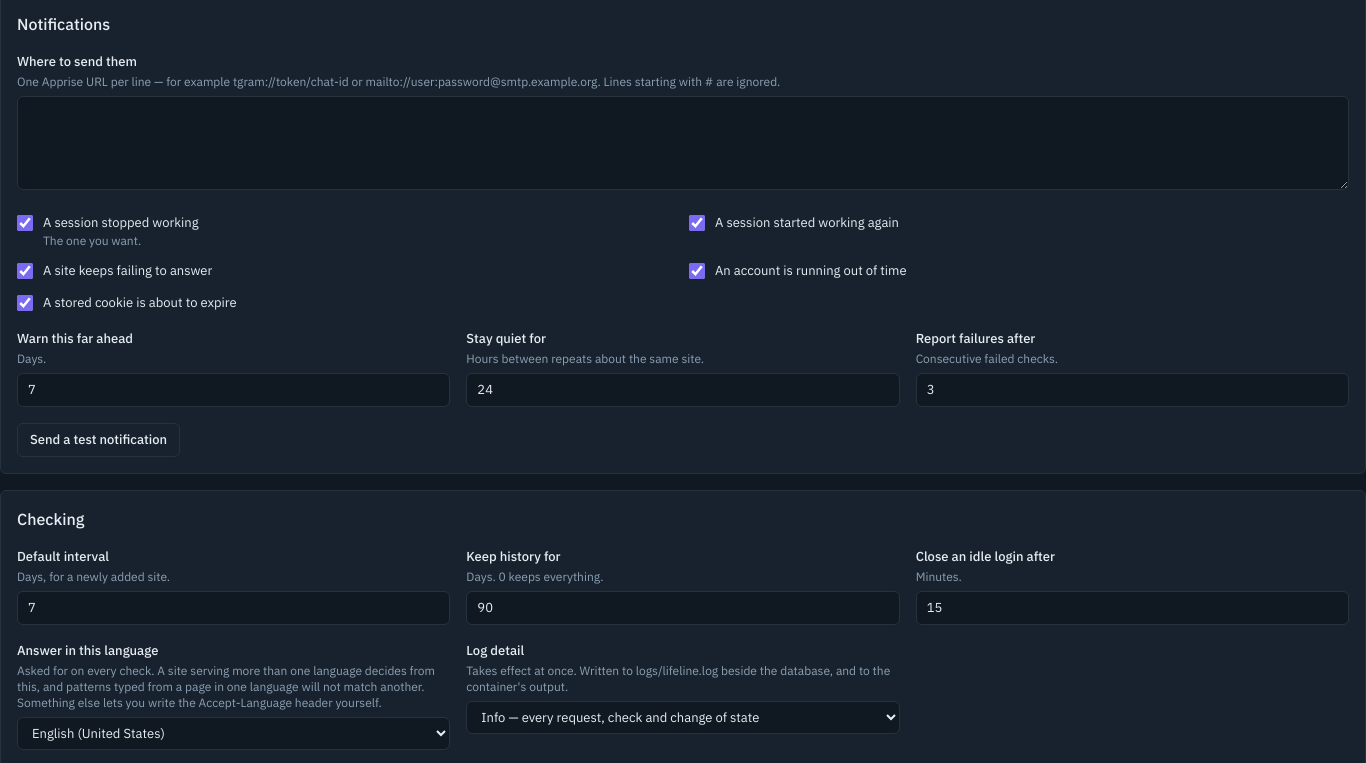
Test case: Settings › passes on the reason nothing was sent
Expected: the text box labelled "Where to send them" is shown, [17,96,1349,190]
Click the button "Send a test notification". click: coordinates (99, 440)
box: [17,423,180,457]
(page scrolled)
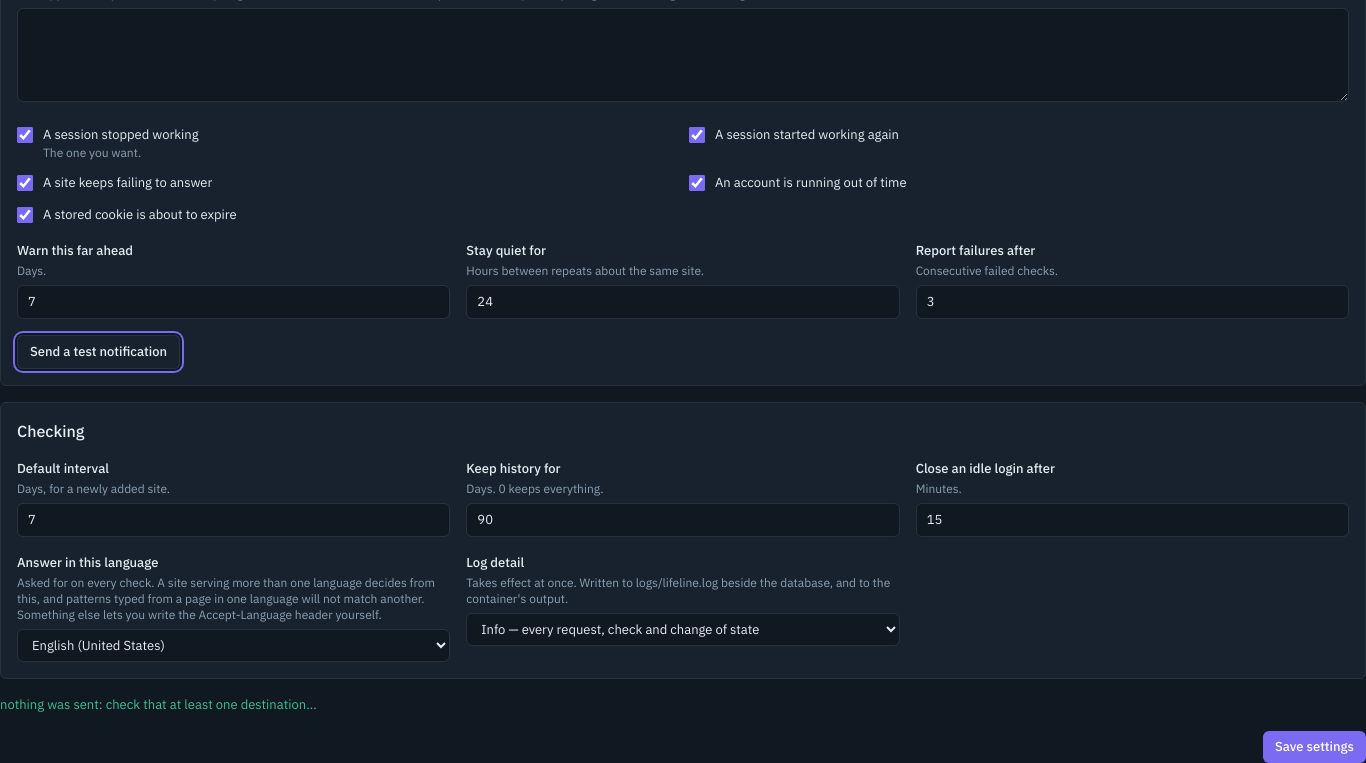
Result: the message shows "nothing was sent" at [0,696,317,713]
